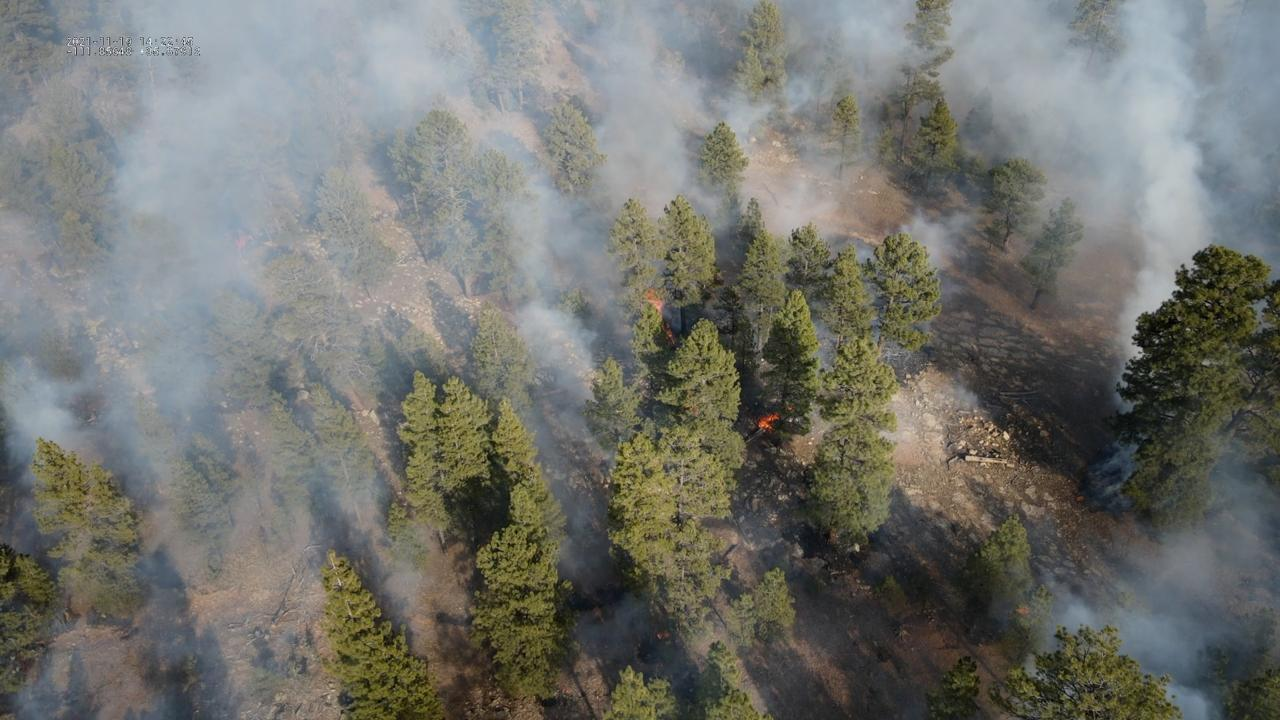fire: (644, 287, 677, 347), (756, 412, 780, 433), (234, 234, 248, 250)
smoke: (0, 0, 1280, 720)
